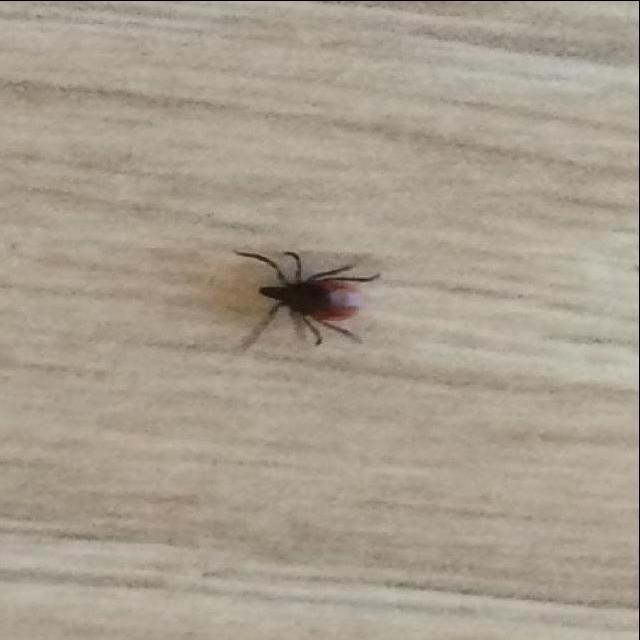Ixodes Ricinus-F: (234, 248, 382, 351)
